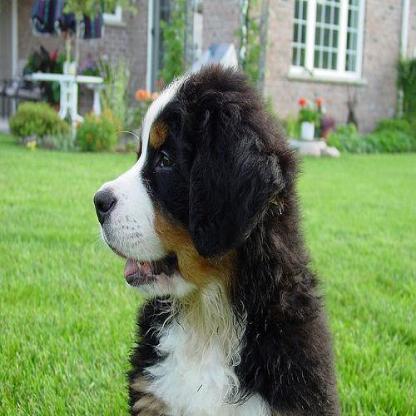Bernese_mountain_dog: (92, 58, 340, 412)
